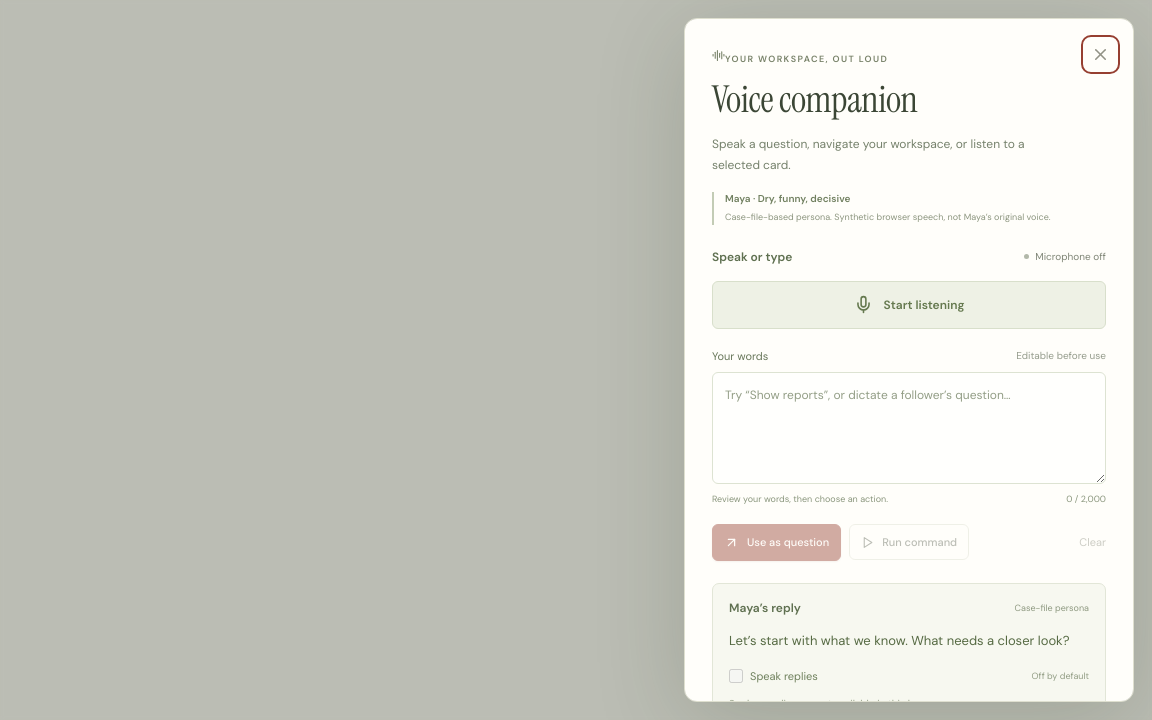
voice input lifecycle with simulated browser events › does not claim audio capture from onstart and bounds the wait for words
Click the button "Start listening": (909, 305) x1=712 y1=281 x2=1106 y2=329
Wait 20000 ms
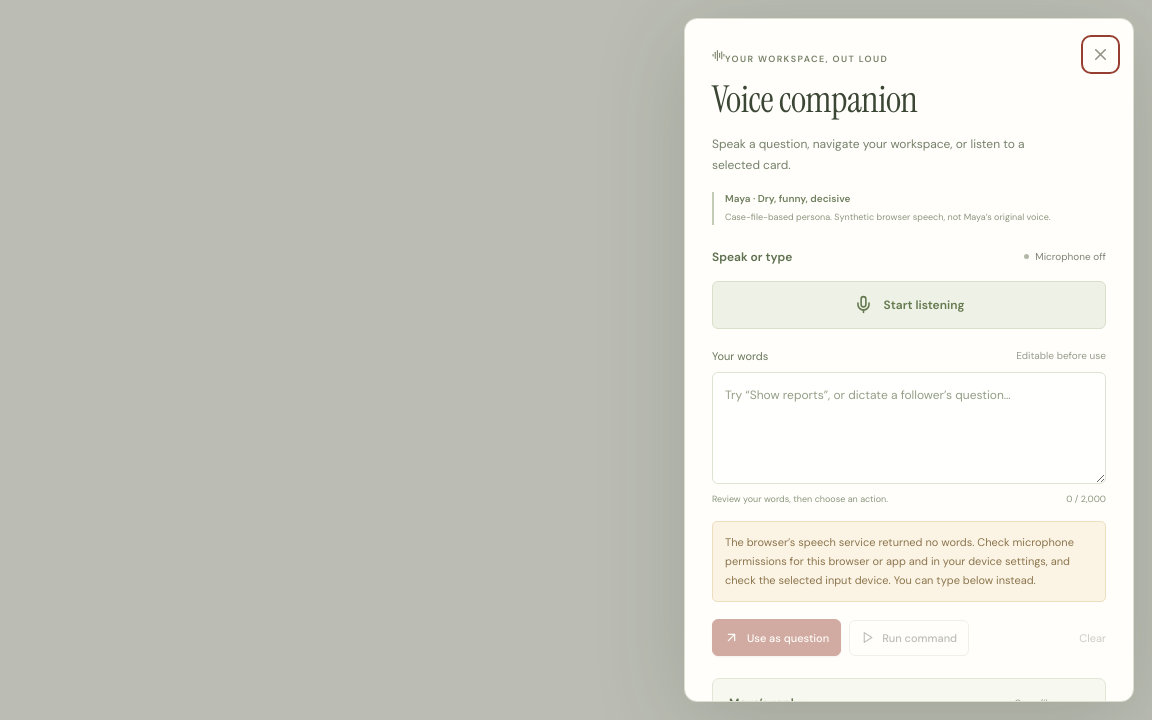
Expected: the text "Speech service ready · waiting for audio" is shown, x1=1024 y1=250 x2=1106 y2=263
Expected: the text "speech service returned no words" is shown, x1=725 y1=535 x2=1074 y2=587
